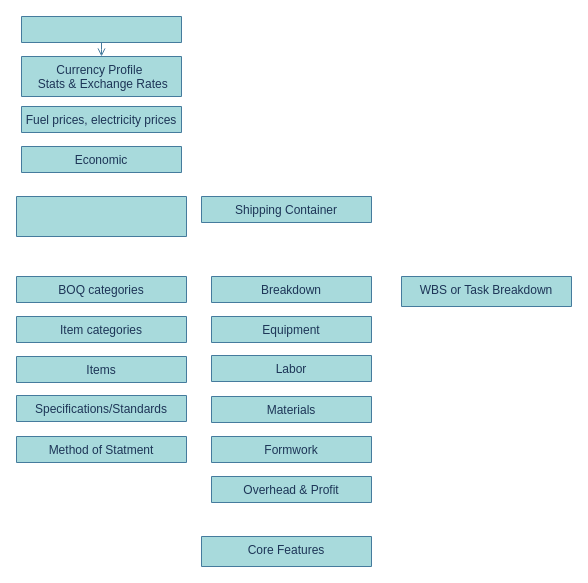
This 588x583 diagram has some shape labels left out. Here are the shapes that lost their labels. From the top down, the centre of each, then its label:
At pixel 101 29: "Country".
At pixel 101 216: "Procurement Supply Chain".
